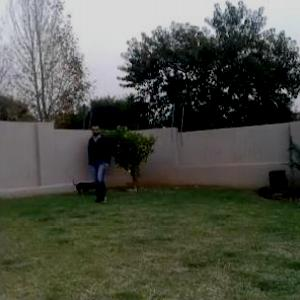follow: (86, 120, 112, 204)
